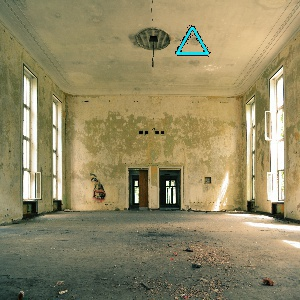triangle: (174, 22, 213, 60)
